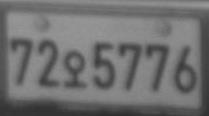2: (37, 38, 59, 88)
5: (92, 42, 117, 89)
6: (174, 45, 197, 93)
7: (145, 43, 170, 92), (118, 41, 142, 92), (10, 38, 34, 86)
오: (63, 49, 87, 89)
